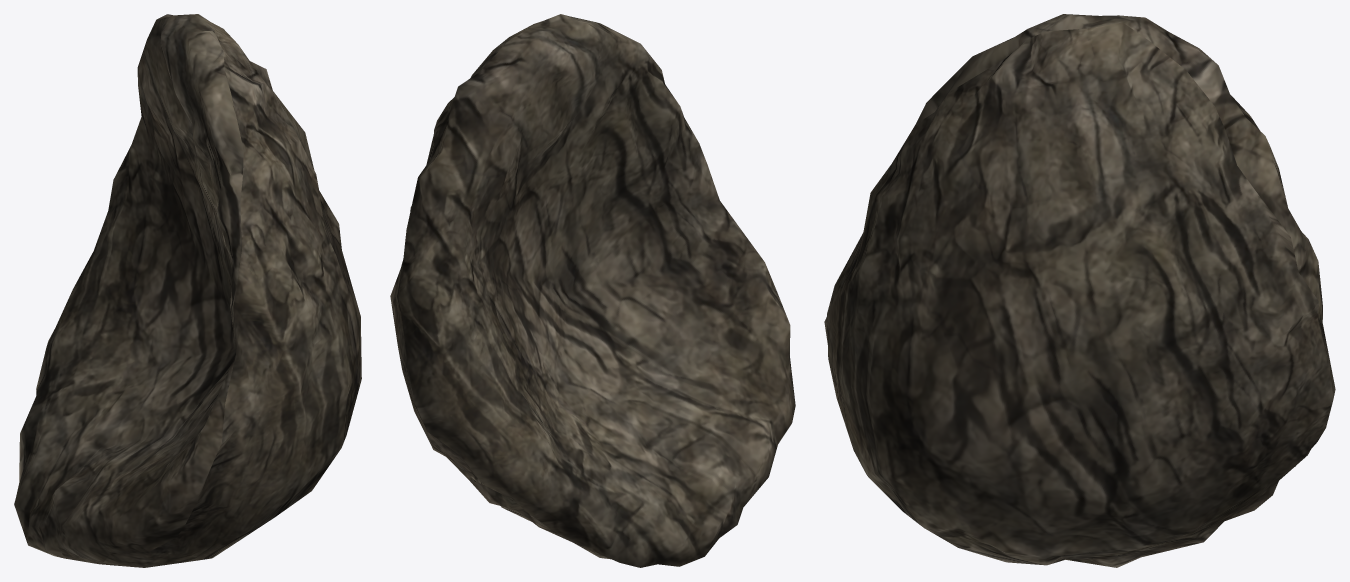
The model's file is MEP_C_ConcaveStone_N.fbx.
3 views of the same model, side by side, from view 1: azimuth 30°, elevation 25°; view 2: azimuth 150°, elevation 25°; view 3: azimuth 270°, elevation 25° (orthographic). The views are drawn at different scales.
Visible parts, largest first — view 1: MEP_C_ConcaveStone; view 2: MEP_C_ConcaveStone; view 3: MEP_C_ConcaveStone.
Boxes of the visible parts, x1,y1,x2,y2 form: MEP_C_ConcaveStone: (14, 14, 361, 567); MEP_C_ConcaveStone: (390, 14, 795, 567); MEP_C_ConcaveStone: (824, 14, 1335, 567).
Size of what is drawn, in the model's own units: 315 by 527 by 420.
1 material, 1 textured.
